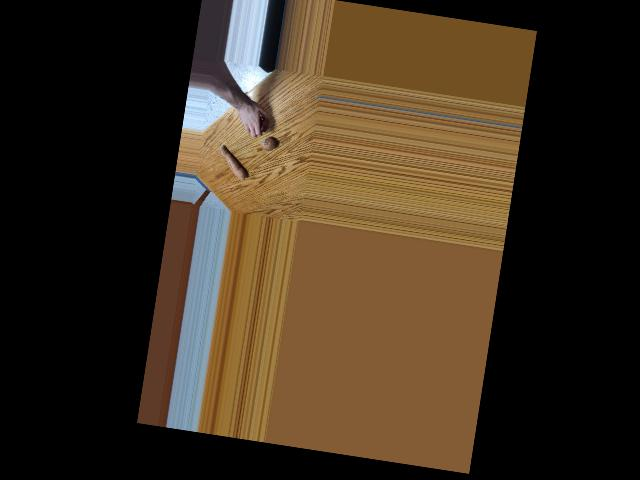onion: (252, 116, 268, 132)
